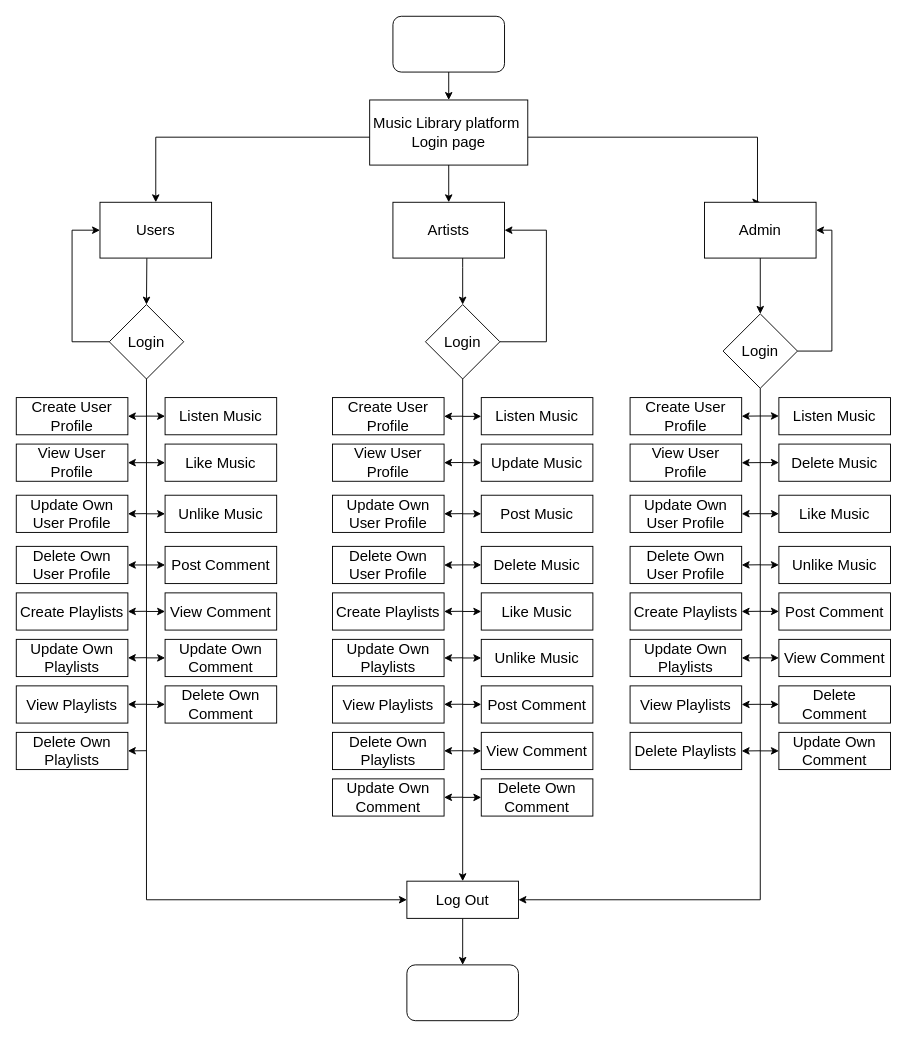
The diagram is 907 pixels wide and 1037 high, and some of its shapes have lost their labels. The box of each missing label's shape, as (x1, y1, x2, y2) in pixels:
End: (406, 964, 518, 1021)
Start: (392, 15, 505, 72)
